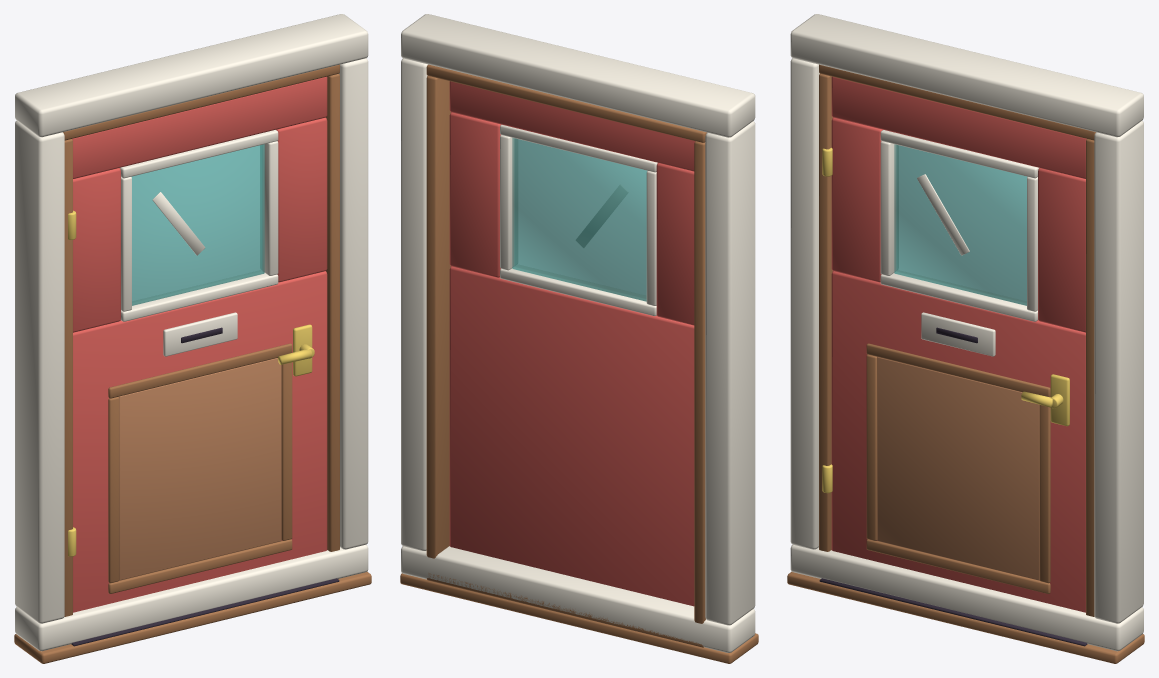
Rendered from door.glb.
3 renders of one model, left to right at view 1: azimuth 30°, elevation 25°; view 2: azimuth 150°, elevation 25°; view 3: azimuth 330°, elevation 25°, orthographic.
Visible parts, largest first — view 1: IntDoor_OuterFrame, IntDoor_CoralLeaf, IntDoor_LowerPanel, IntDoor_ThresholdJamb, IntDoor_GlassWindow, IntDoor_HandleHinges, IntDoor_KickPlate; view 2: IntDoor_CoralLeaf, IntDoor_OuterFrame, IntDoor_ThresholdJamb, IntDoor_GlassWindow; view 3: IntDoor_OuterFrame, IntDoor_CoralLeaf, IntDoor_LowerPanel, IntDoor_ThresholdJamb, IntDoor_GlassWindow, IntDoor_HandleHinges, IntDoor_KickPlate.
Boxes of the visible parts, box(x1,y1,x2,y2) form: IntDoor_OuterFrame: box(15, 14, 368, 651); IntDoor_CoralLeaf: box(72, 76, 327, 612); IntDoor_LowerPanel: box(119, 358, 281, 580); IntDoor_ThresholdJamb: box(14, 64, 371, 663); IntDoor_GlassWindow: box(131, 144, 264, 305); IntDoor_HandleHinges: box(68, 210, 314, 556); IntDoor_KickPlate: box(71, 327, 339, 646); IntDoor_CoralLeaf: box(449, 81, 695, 606); IntDoor_OuterFrame: box(401, 14, 755, 652); IntDoor_ThresholdJamb: box(400, 64, 758, 663); IntDoor_GlassWindow: box(512, 138, 647, 301); IntDoor_OuterFrame: box(790, 14, 1143, 651); IntDoor_CoralLeaf: box(831, 76, 1086, 612); IntDoor_LowerPanel: box(877, 357, 1039, 580); IntDoor_ThresholdJamb: box(787, 64, 1144, 663); IntDoor_GlassWindow: box(894, 144, 1027, 305); IntDoor_HandleHinges: box(822, 147, 1069, 493); IntDoor_KickPlate: box(819, 327, 1087, 646).
Size of the model in its own units: 1.44 by 2.3 by 0.241.
